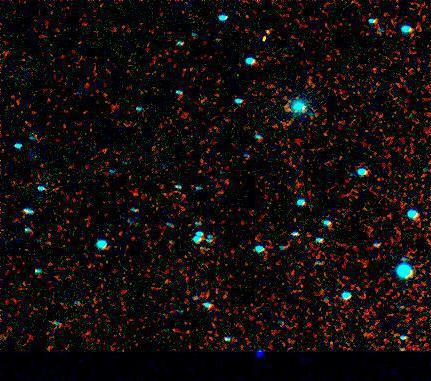star: (248, 17, 278, 47)
